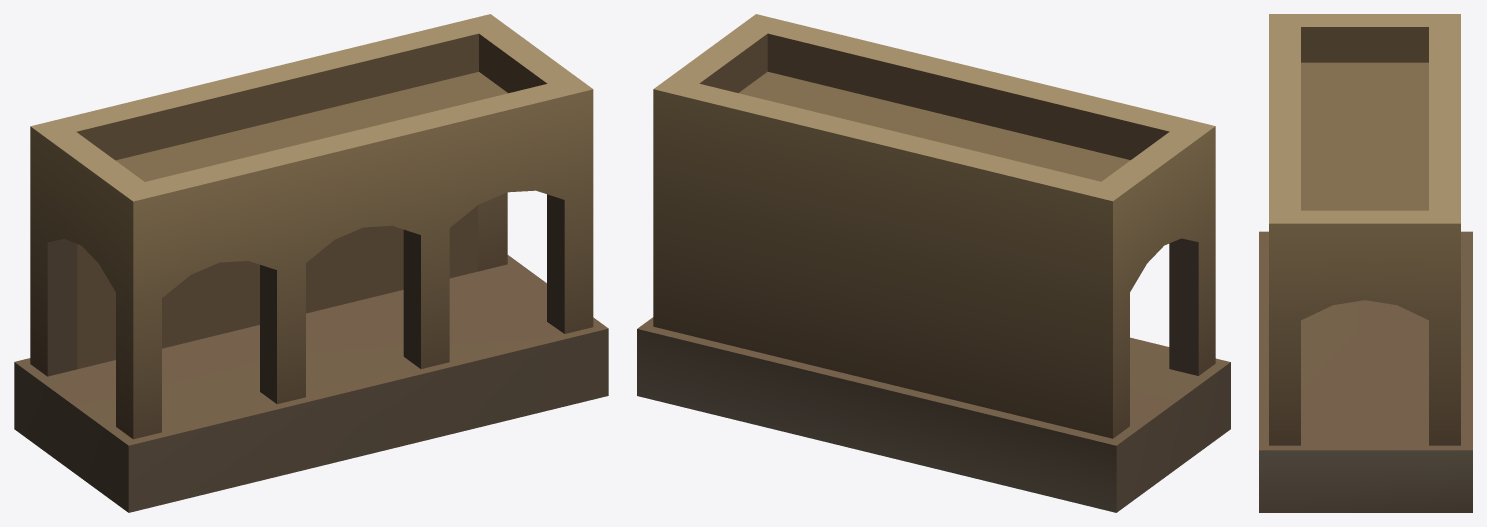
Rendered from Historical_DesertBuildingOld_alt02.glb.
3 views of the same model, side by side, from view 1: azimuth 30°, elevation 25°; view 2: azimuth 150°, elevation 25°; view 3: azimuth 270°, elevation 25° (orthographic). The views are drawn at different scales.
Visible parts, largest first — view 1: alt2.016; view 2: alt2.016; view 3: alt2.016.
Part boxes in pixels (x1,y1,x2,y2): alt2.016: (14, 14, 608, 512); alt2.016: (637, 14, 1230, 512); alt2.016: (1259, 14, 1472, 512).
Bounding box in the file's own units: 13.24 × 8.04 × 5.47.
